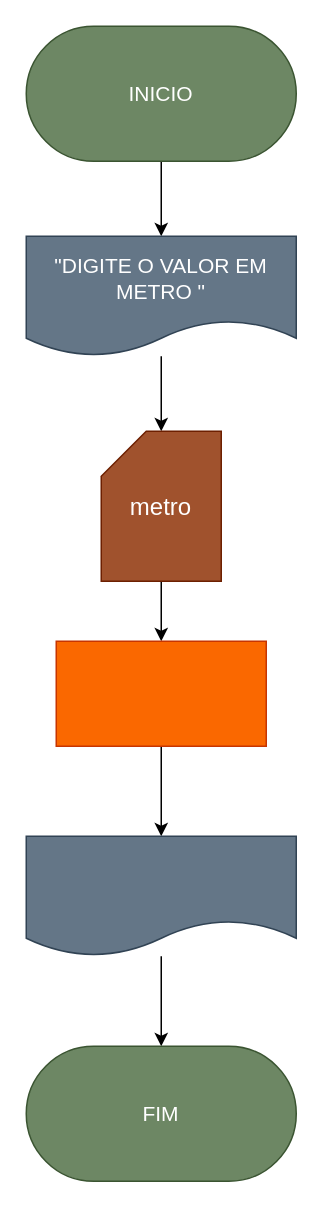
This 323x1208 diagram has some shape labels left out. The centre of each missing label's shape, as x and y in pixels:
"O VALOR EM CENTÍMETROS É: ", centimetro: the point at 160,895
centimetro = metro * 100: the point at 160,693
